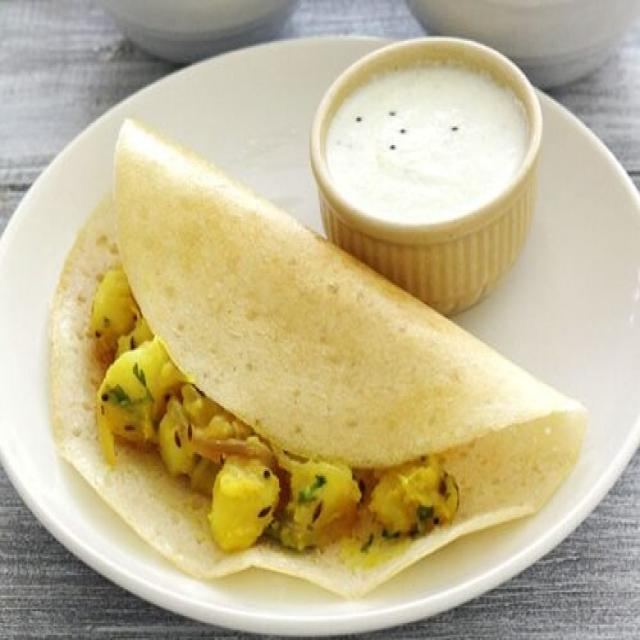Wet Waste: (61, 125, 580, 563), (325, 41, 543, 227)
